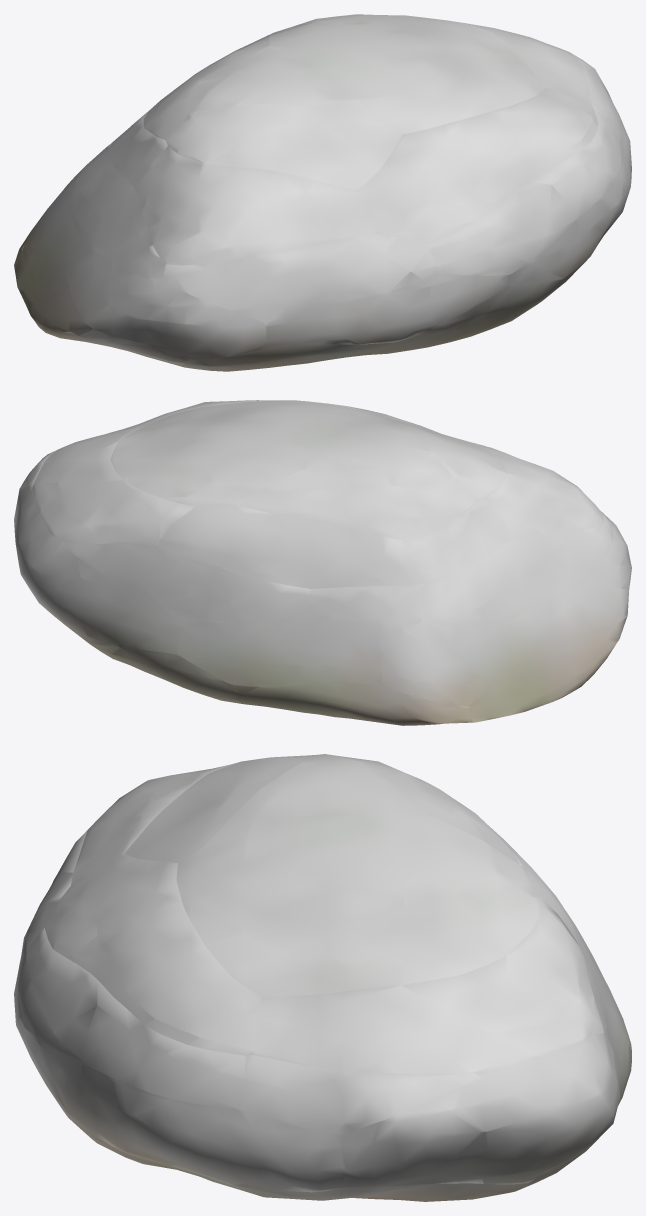
Rendered from coal_rock_v1.glb.
3 renders of one model, top to bottom at view 1: azimuth 30°, elevation 25°; view 2: azimuth 150°, elevation 25°; view 3: azimuth 270°, elevation 25°, orthographic. The views are drawn at different scales.
Parts seen in each view (by area): view 1: Chunk_29, Chunk_24, Chunk_23, Chunk_17, Chunk_28, Chunk_18, Chunk_10, Chunk_11, Chunk_16, Chunk_30, Chunk_03, Chunk_12 (+7 smaller); view 2: Chunk_29, Chunk_21, Chunk_08, Chunk_07, Chunk_27, Chunk_25, Chunk_16, Chunk_14, Chunk_09, Chunk_03, Chunk_02, Chunk_23 (+7 smaller); view 3: Chunk_29, Chunk_25, Chunk_07, Chunk_24, Chunk_12, Chunk_18, Chunk_19, Chunk_30, Chunk_28, Chunk_23, Chunk_00, Chunk_27 (+4 smaller).
Boxes of the visible parts, x1=… form: Chunk_29: x1=268, y1=14, x2=544, y2=134; Chunk_24: x1=358, y1=88, x2=598, y2=243; Chunk_23: x1=134, y1=146, x2=378, y2=265; Chunk_17: x1=162, y1=232, x2=437, y2=322; Chunk_28: x1=165, y1=103, x2=401, y2=190; Chunk_18: x1=429, y1=108, x2=622, y2=275; Chunk_10: x1=61, y1=241, x2=266, y2=359; Chunk_11: x1=266, y1=274, x2=510, y2=344; Chunk_16: x1=72, y1=148, x2=165, y2=279; Chunk_30: x1=190, y1=47, x2=379, y2=121; Chunk_03: x1=14, y1=250, x2=183, y2=366; Chunk_12: x1=508, y1=119, x2=631, y2=286; Chunk_29: x1=110, y1=400, x2=368, y2=506; Chunk_21: x1=157, y1=505, x2=424, y2=588; Chunk_08: x1=176, y1=614, x2=382, y2=686; Chunk_07: x1=14, y1=473, x2=183, y2=653; Chunk_27: x1=239, y1=469, x2=478, y2=540; Chunk_25: x1=34, y1=414, x2=195, y2=545; Chunk_16: x1=427, y1=523, x2=613, y2=623; Chunk_14: x1=62, y1=540, x2=310, y2=622; Chunk_09: x1=378, y1=618, x2=536, y2=706; Chunk_03: x1=470, y1=617, x2=626, y2=722; Chunk_02: x1=233, y1=683, x2=471, y2=725; Chunk_23: x1=470, y1=442, x2=604, y2=540; Chunk_29: x1=176, y1=813, x2=541, y2=997; Chunk_25: x1=252, y1=896, x2=594, y2=1073; Chunk_07: x1=340, y1=1007, x2=628, y2=1187; Chunk_24: x1=45, y1=854, x2=261, y2=1055; Chunk_12: x1=25, y1=1028, x2=345, y2=1192; Chunk_18: x1=17, y1=928, x2=245, y2=1110; Chunk_19: x1=244, y1=1055, x2=506, y2=1135; Chunk_30: x1=205, y1=755, x2=432, y2=845; Chunk_28: x1=124, y1=754, x2=332, y2=862; Chunk_23: x1=71, y1=763, x2=234, y2=885; Chunk_00: x1=139, y1=1157, x2=532, y2=1201; Chunk_27: x1=336, y1=755, x2=519, y2=864.
Bounding box in the file's own units: 3.08 × 1.19 × 2.26.
